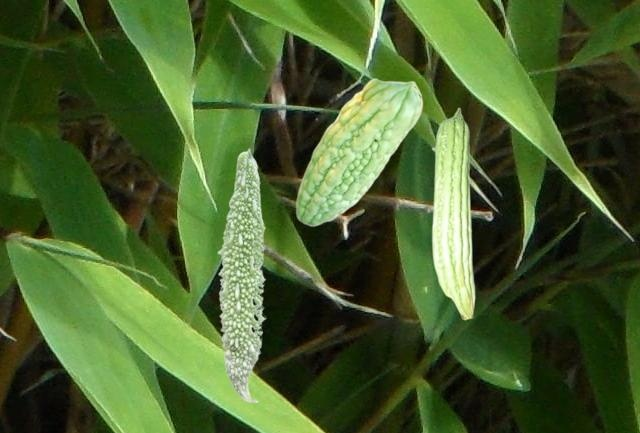ampalaya: (295, 77, 425, 227), (217, 147, 266, 403), (431, 105, 477, 322)
